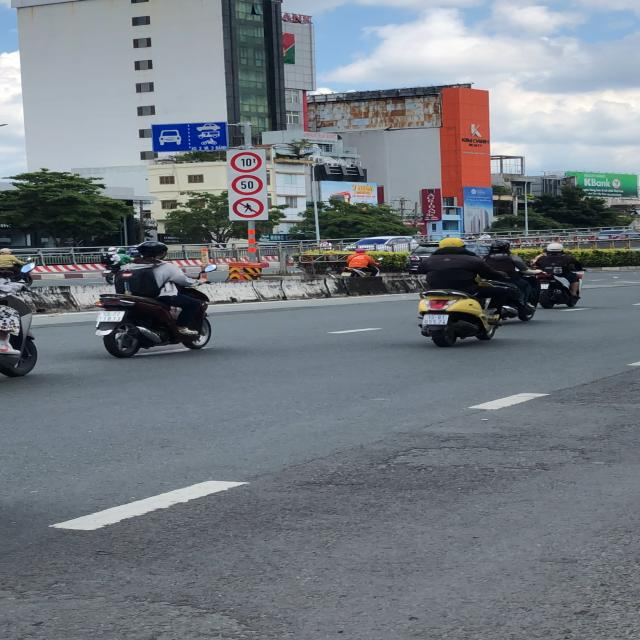Bien bao cam nguoi di bo: (231, 197, 270, 219)
Bien bao toc do toi da cho phep: (231, 173, 267, 198)
